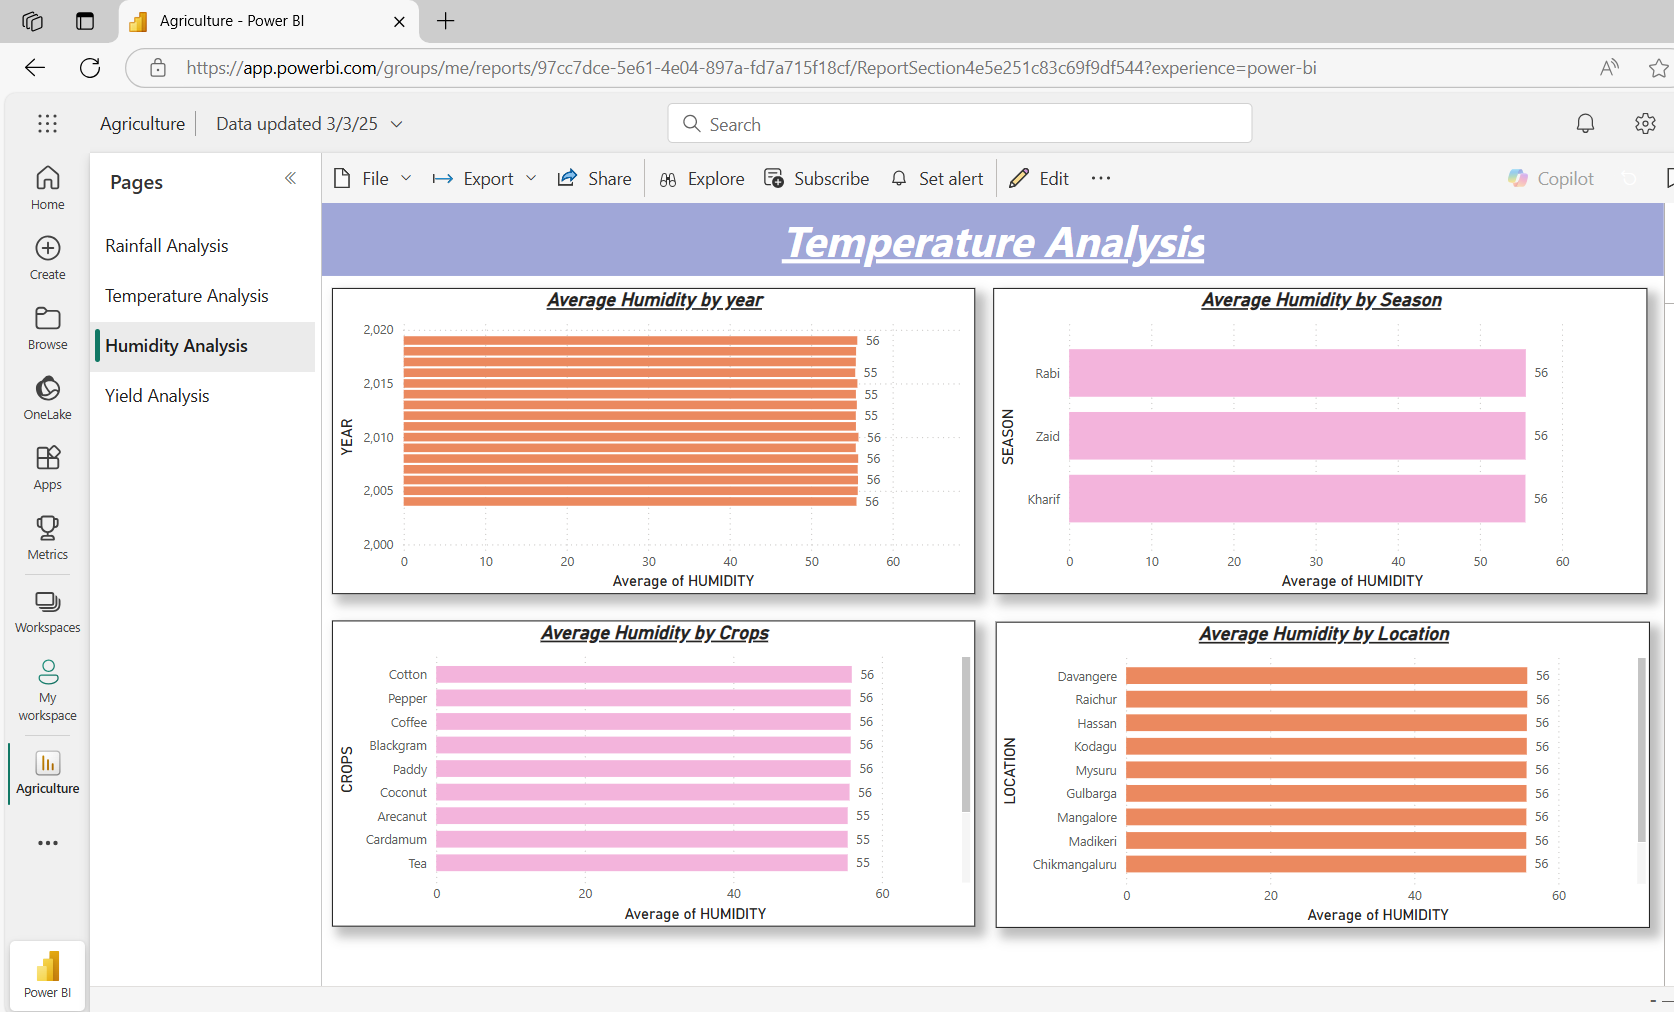

This screenshot's page, from the dashboard's own definition file:
{"tool":"powerbi","page":{"name":"Humidity Analysis ","canvas":[1280,720],"ordinal":2},"visuals":[{"type":"shape","box":[0,0,1280.3,70],"z":0},{"type":"barChart","title":"Average Humidity by year","fields":{"Category":["AGRICULTURE.YEAR"],"Y":["Avg(AGRICULTURE.HUMIDITY)"]},"box":[9.6,81,613.4,292.3],"z":1000},{"type":"barChart","title":"Average Humidity by Season","fields":{"Category":["AGRICULTURE.SEASON"],"Y":["Avg(AGRICULTURE.HUMIDITY)"]},"box":[640.8,81,624.4,292.3],"z":2000},{"type":"barChart","title":"Average Humidity by Crops","fields":{"Category":["AGRICULTURE.CROPS"],"Y":["Avg(AGRICULTURE.HUMIDITY)"]},"box":[9.6,397.9,613.4,292.3],"z":3000},{"type":"barChart","title":"Average Humidity by Location","fields":{"Category":["AGRICULTURE.LOCATION"],"Y":["Avg(AGRICULTURE.HUMIDITY)"]},"box":[642.2,399.3,624.4,292.3],"z":4000}]}

Visuals, with their boxes on the page's 1280x720 design canvas (x1, y1, x2, y2). These are canvas units, not pixel positions in the 1674x1012 screenshot, which may show the page scaled, cropped or inside an application window:
shape: BBox(0, 0, 1280, 70)
"Average Humidity by year" barChart: BBox(10, 81, 623, 373)
"Average Humidity by Season" barChart: BBox(641, 81, 1265, 373)
"Average Humidity by Crops" barChart: BBox(10, 398, 623, 690)
"Average Humidity by Location" barChart: BBox(642, 399, 1267, 692)
